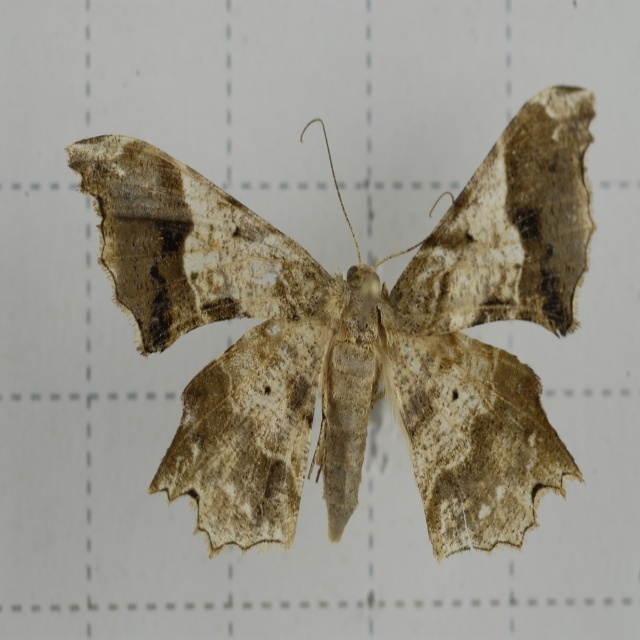Butterfly: (100, 98, 608, 577)
